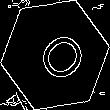O_SW: (24, 22, 86, 88)
